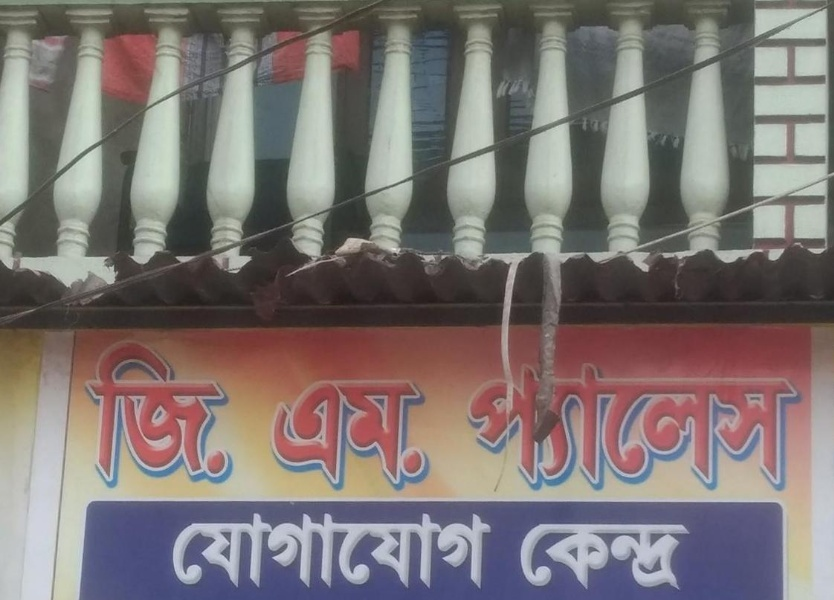text: (225, 337, 241, 493), (97, 337, 112, 493), (113, 337, 128, 493), (129, 337, 144, 493), (145, 337, 160, 493), (161, 337, 176, 493), (177, 337, 192, 493), (193, 337, 208, 493), (209, 337, 224, 493), (481, 362, 496, 493), (497, 362, 512, 493), (513, 362, 528, 493), (529, 362, 544, 493), (545, 362, 560, 493), (561, 362, 576, 493), (577, 362, 592, 493), (593, 362, 608, 493), (609, 362, 624, 493), (625, 362, 640, 493), (641, 362, 656, 493), (657, 362, 672, 493), (673, 362, 688, 493), (689, 362, 704, 493), (705, 362, 720, 493), (721, 362, 736, 493), (737, 362, 752, 493), (753, 362, 768, 493), (769, 362, 784, 493), (785, 362, 800, 493), (466, 362, 480, 493), (273, 379, 288, 492), (289, 379, 304, 492), (305, 379, 320, 492), (321, 379, 336, 492), (337, 379, 352, 492), (353, 379, 368, 492), (369, 379, 384, 492), (385, 379, 400, 492), (401, 379, 416, 492), (417, 379, 430, 492), (87, 337, 96, 493), (177, 513, 192, 591), (193, 513, 208, 591), (209, 513, 224, 591), (225, 513, 240, 591), (241, 513, 256, 591), (257, 513, 272, 591), (273, 513, 288, 591), (289, 513, 304, 591), (305, 513, 320, 591), (321, 513, 336, 591), (337, 513, 352, 591), (353, 513, 368, 591), (369, 513, 384, 591), (385, 513, 400, 591), (401, 513, 416, 591), (417, 513, 432, 591), (433, 513, 448, 591), (449, 513, 464, 591), (465, 513, 480, 591), (529, 523, 544, 592), (545, 523, 560, 592), (561, 523, 576, 592), (577, 523, 592, 592), (593, 523, 608, 592), (609, 523, 624, 592), (625, 523, 640, 592), (641, 523, 656, 592), (657, 523, 672, 592), (673, 523, 688, 592), (481, 513, 493, 591), (522, 523, 528, 592), (689, 523, 694, 592), (172, 513, 176, 591), (801, 362, 803, 493), (270, 379, 272, 492)
